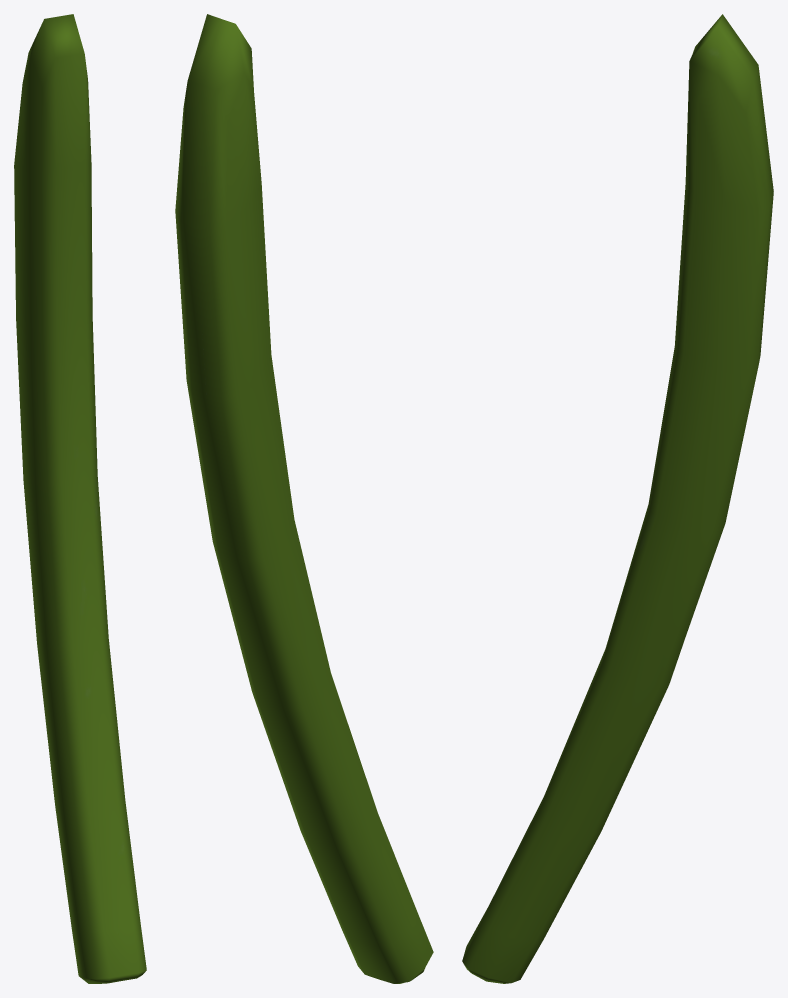
3 views of the same model, side by side, from view 1: azimuth 30°, elevation 25°; view 2: azimuth 150°, elevation 25°; view 3: azimuth 270°, elevation 25° (orthographic). The views are drawn at different scales.
Parts seen in each view (by area): view 1: blade10; view 2: blade10; view 3: blade10.
Boxes of the visible parts, bbox=[...] form: blade10: bbox=[14, 14, 146, 983]; blade10: bbox=[175, 14, 433, 983]; blade10: bbox=[462, 14, 773, 983].
Bounding box in the file's own units: 0.2375 × 2 × 0.5761.
1 material, 1 textured.
